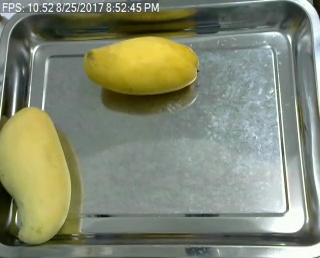Mango: (0, 103, 69, 247), (81, 33, 203, 100)
